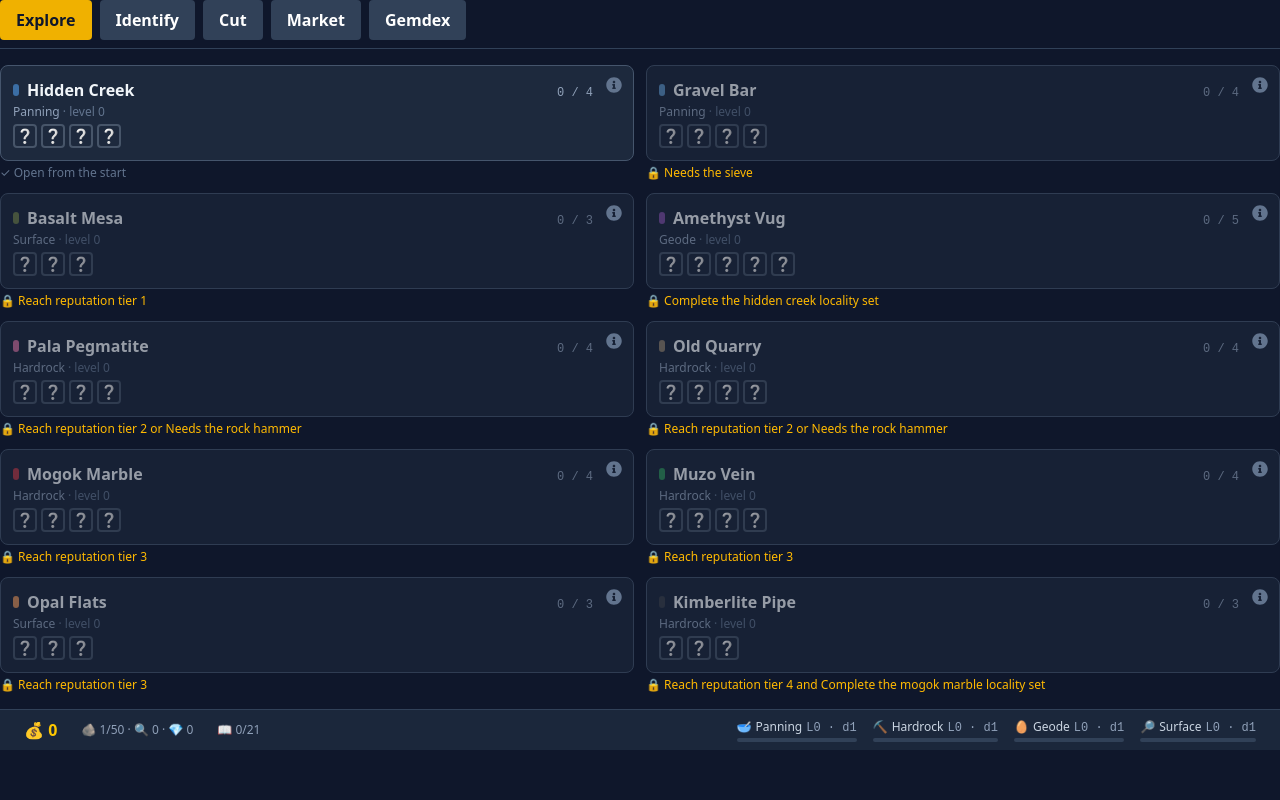
Rockhound shell › shows a rough that sight alone cannot settle on the Identify bench
The image size is (1280, 800).
Click the button "Identify": [147, 20] box [100, 0, 195, 40]
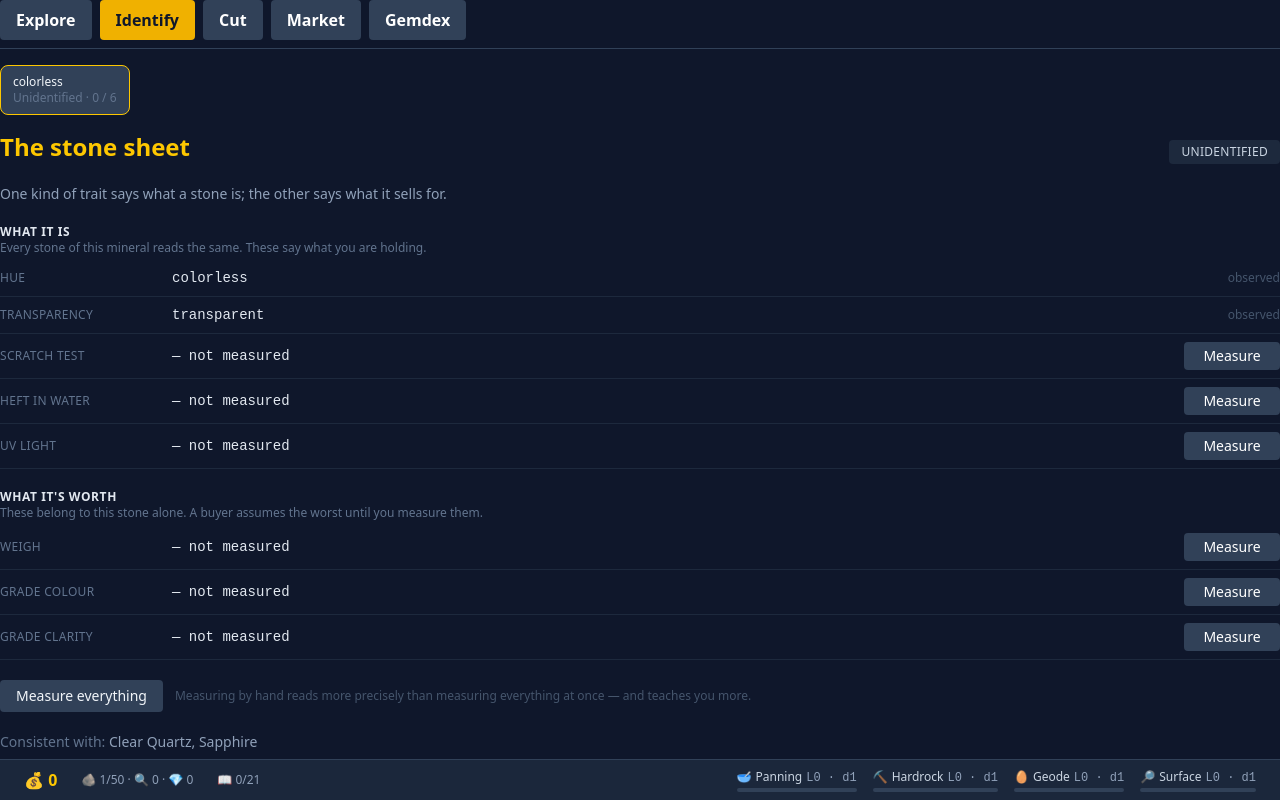
Now the element named "still consistent" shows "Clear Quartz", box [109, 732, 257, 751]
Now the element named "still consistent" shows "Sapphire", box [109, 732, 257, 751]
